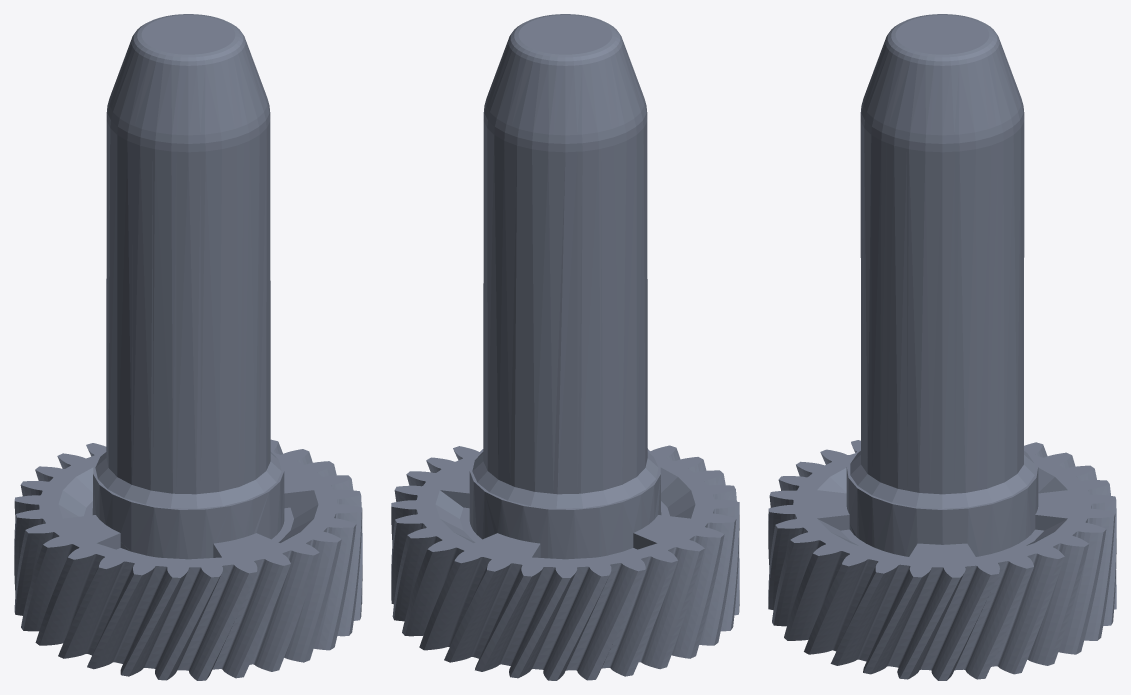
File: largeGear_grey.dae
The picture shows the model from 3 angles, left to right: view 1: azimuth 30°, elevation 25°; view 2: azimuth 150°, elevation 25°; view 3: azimuth 270°, elevation 25°; orthographic projection.
Visible parts, largest first — view 1: largeGear_v5; view 2: largeGear_v5; view 3: largeGear_v5.
Part boxes in pixels (x1,y1,x2,y2): largeGear_v5: (14, 14, 362, 680); largeGear_v5: (391, 14, 739, 680); largeGear_v5: (768, 14, 1116, 680).
Size of the model in its own units: 0.0635 by 0.0635 by 0.1152.
